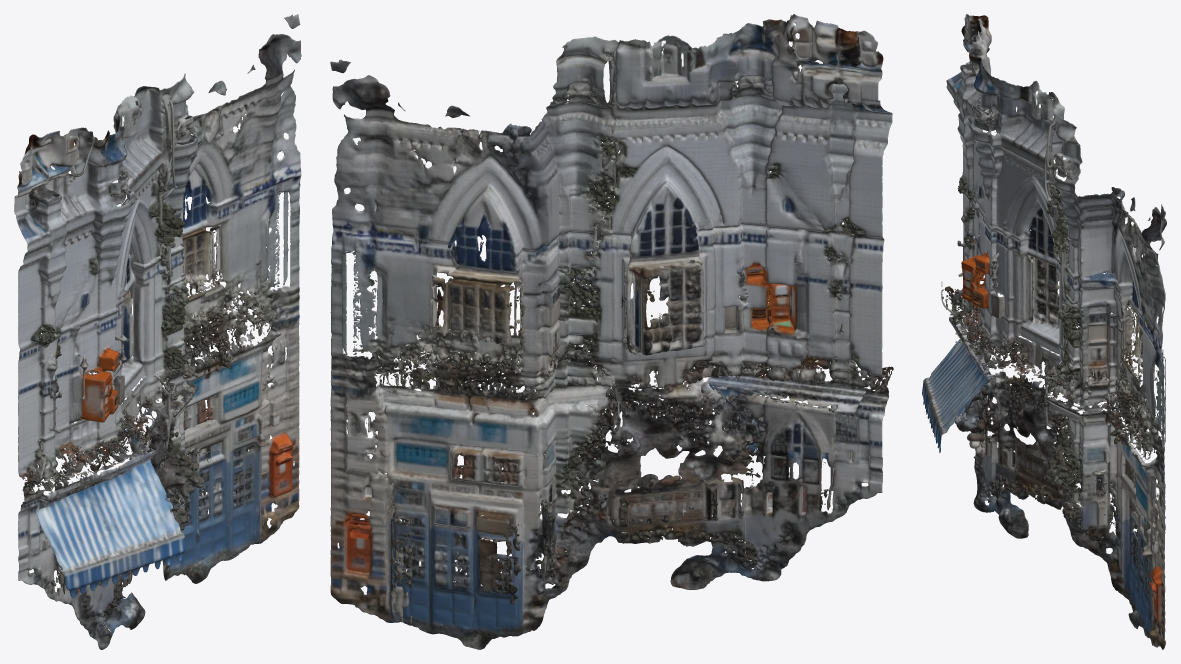
File: hermit.glb
3 renders of one model, left to right at view 1: azimuth 30°, elevation 25°; view 2: azimuth 150°, elevation 25°; view 3: azimuth 270°, elevation 25°, orthographic. The views are drawn at different scales.
Parts seen in each view (by area): view 1: geometry_0; view 2: geometry_0; view 3: geometry_0.
Part boxes in pixels (bbox=[...]): geometry_0: bbox=[14, 14, 301, 649]; geometry_0: bbox=[330, 14, 893, 649]; geometry_0: bbox=[922, 14, 1166, 649].
Bounding box in the file's own units: 0.7202 × 0.9957 × 0.4382.
1 material, 1 textured.
